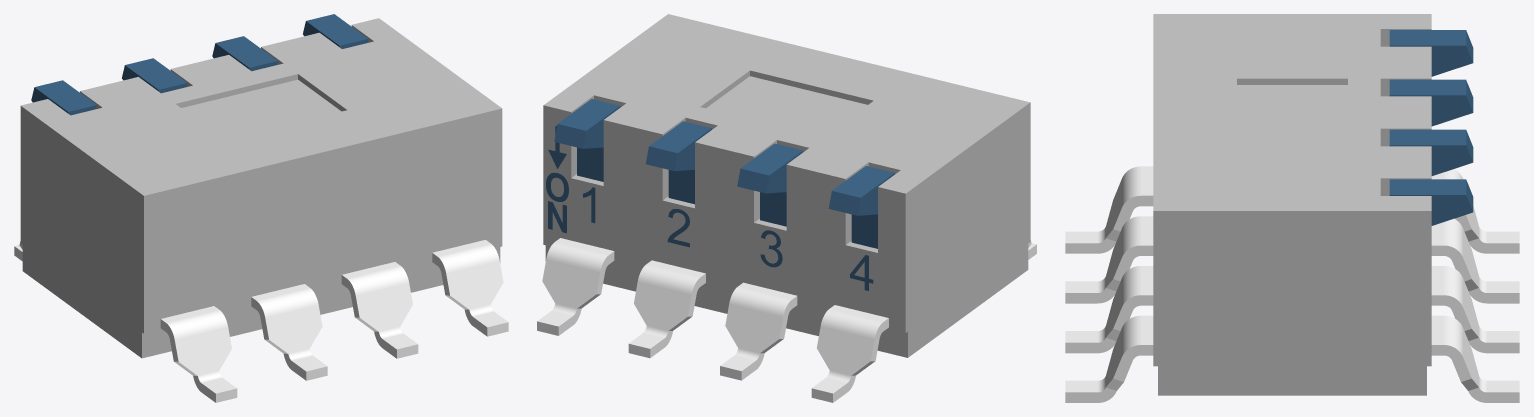
3 views of the same model, side by side, from view 1: azimuth 30°, elevation 25°; view 2: azimuth 150°, elevation 25°; view 3: azimuth 270°, elevation 25° (orthographic). The views are drawn at different scales.
Visible parts, largest first — view 1: mesh11_mesh11-geometry, mesh8_mesh8-geometry, mesh10_mesh10-geometry; view 2: mesh11_mesh11-geometry, mesh8_mesh8-geometry, mesh10_mesh10-geometry; view 3: mesh11_mesh11-geometry, mesh8_mesh8-geometry, mesh10_mesh10-geometry.
Boxes of the visible parts, left/top/right/bottom form: mesh11_mesh11-geometry: left=20, top=18, right=502, bottom=358; mesh8_mesh8-geometry: left=14, top=240, right=508, bottom=402; mesh10_mesh10-geometry: left=31, top=14, right=368, bottom=115; mesh11_mesh11-geometry: left=543, top=14, right=1030, bottom=357; mesh8_mesh8-geometry: left=537, top=238, right=1036, bottom=402; mesh10_mesh10-geometry: left=554, top=99, right=894, bottom=248; mesh11_mesh11-geometry: left=1153, top=14, right=1431, bottom=395; mesh8_mesh8-geometry: left=1065, top=166, right=1519, bottom=402; mesh10_mesh10-geometry: left=1389, top=30, right=1473, bottom=225.
Bounding box in the file's own units: 0.6748 × 0.3354 × 0.6574.
